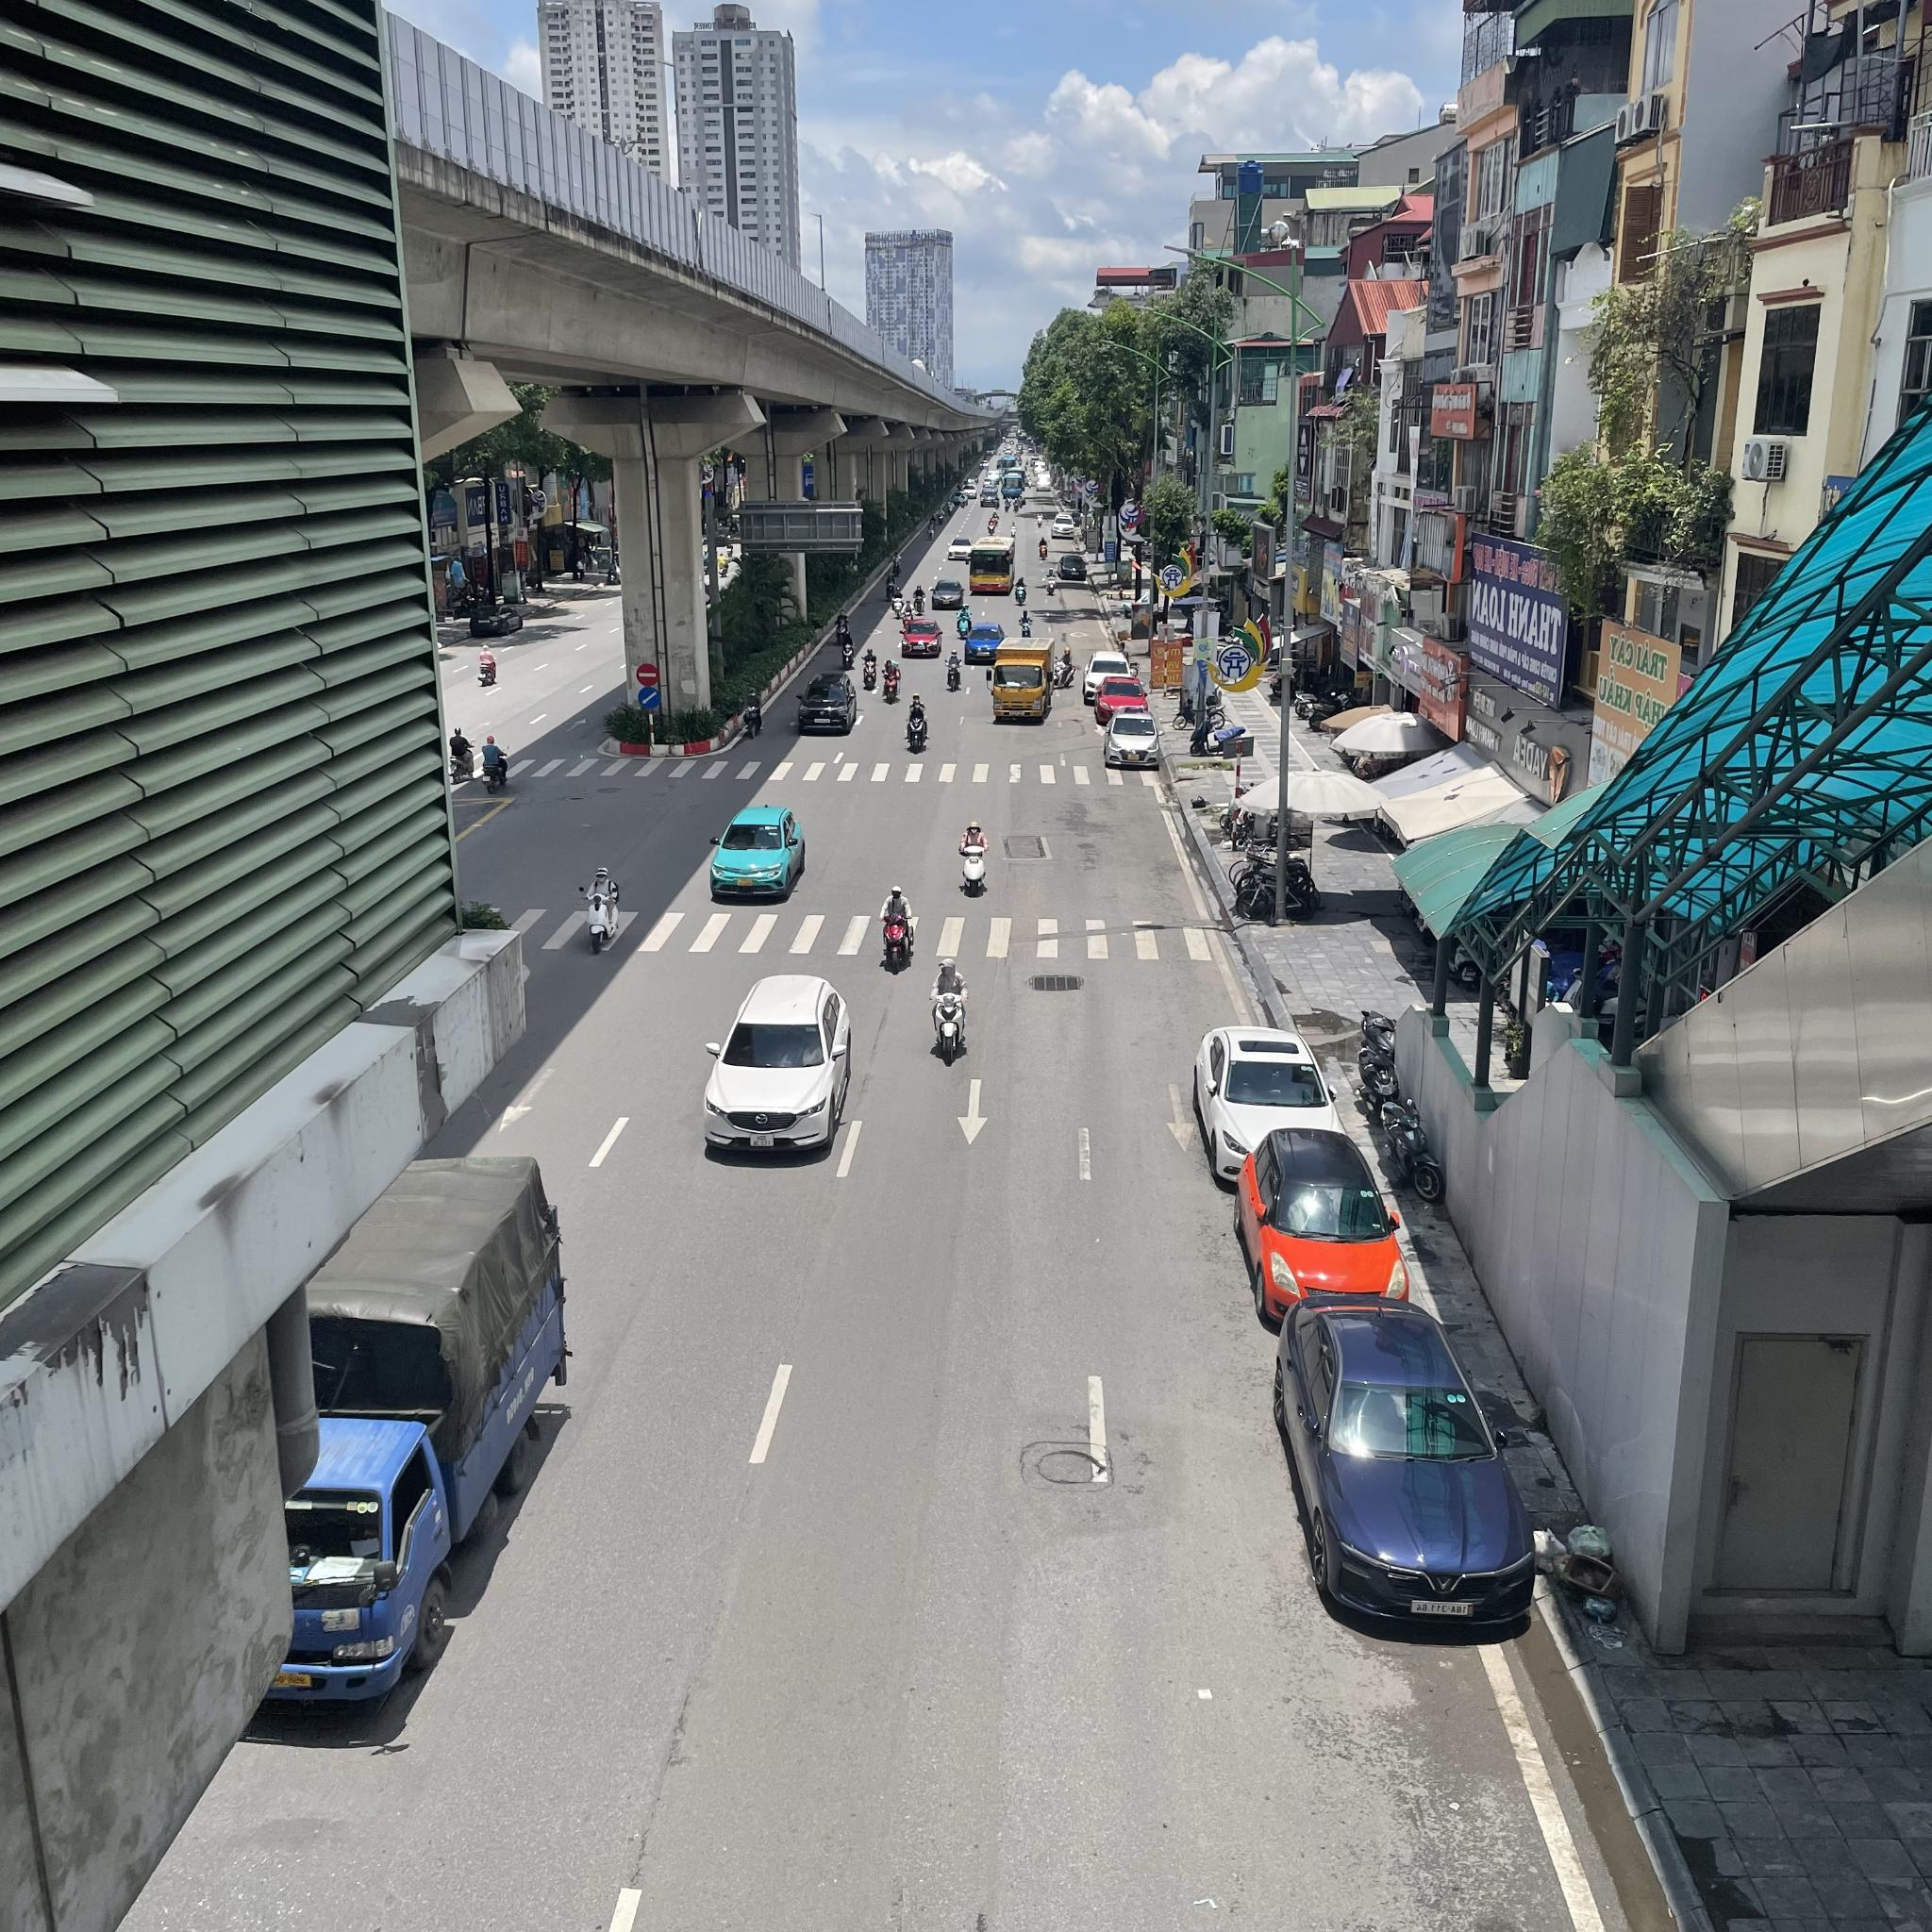car: (1276, 1296, 1540, 1642), (691, 972, 849, 1167), (702, 800, 810, 911), (993, 637, 1056, 722), (797, 672, 858, 736), (1104, 709, 1161, 769), (969, 540, 1011, 593), (931, 581, 962, 608), (1058, 554, 1088, 579)
motobike: (569, 866, 623, 959), (926, 965, 967, 1062), (952, 819, 990, 906), (875, 889, 913, 973), (906, 693, 925, 756), (879, 660, 901, 704), (743, 689, 761, 741), (944, 649, 959, 691), (861, 647, 873, 690), (1017, 609, 1033, 638), (841, 632, 853, 669), (1013, 576, 1027, 606), (958, 605, 969, 638), (1045, 568, 1056, 594)
